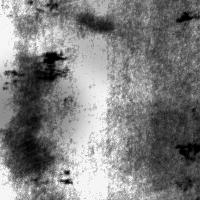patches: (55, 0, 183, 79), (0, 63, 82, 155), (133, 101, 200, 191), (7, 49, 52, 152), (1, 124, 62, 187), (34, 47, 68, 81), (78, 8, 119, 36), (171, 8, 199, 26)
